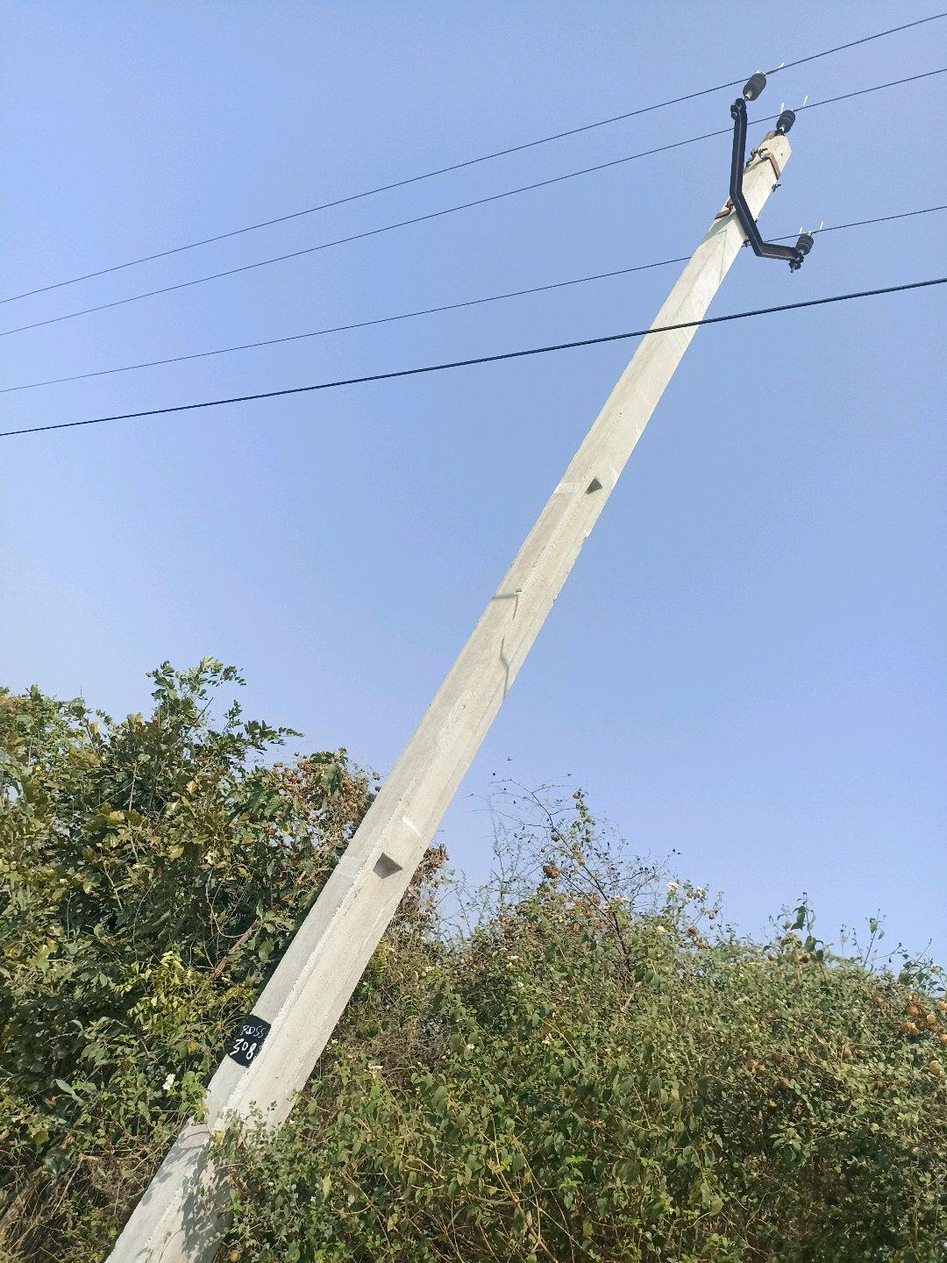{"0" "insulator", "1" "pole", "2" "crossarm", "3" "conductor", "4" "street_: (106, 73, 812, 1262)
